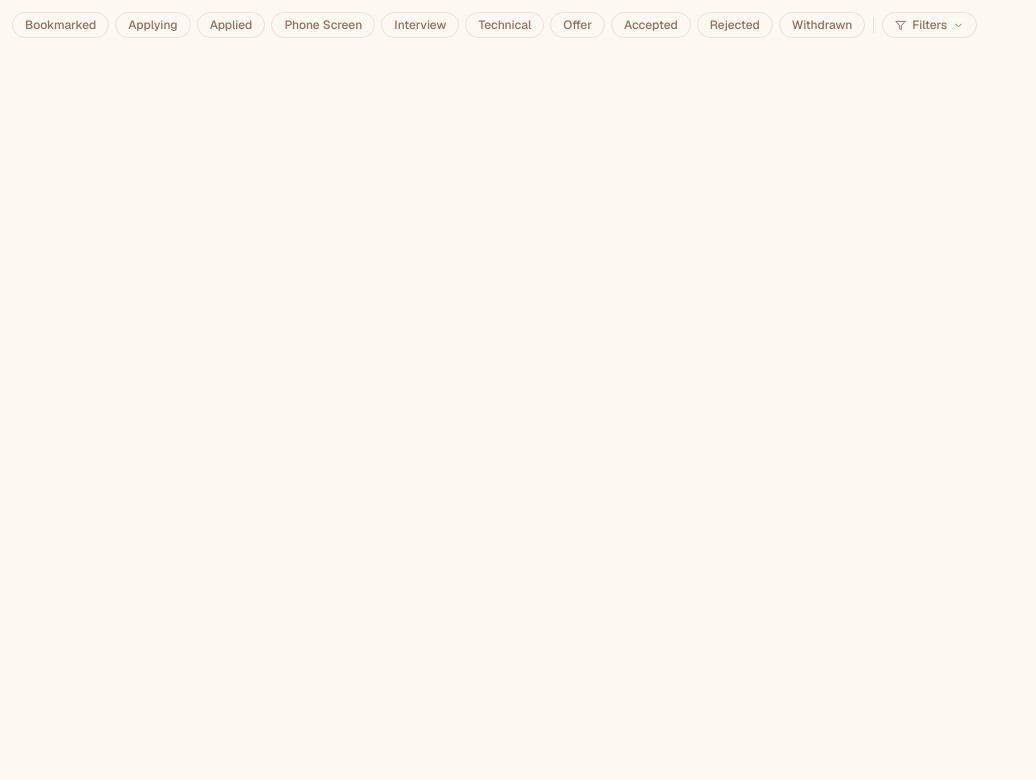
JobsFilters — Filters panel › opens the panel when Filters button is clicked
Click the button "Filters" at (930,25), box [882,12,977,38]
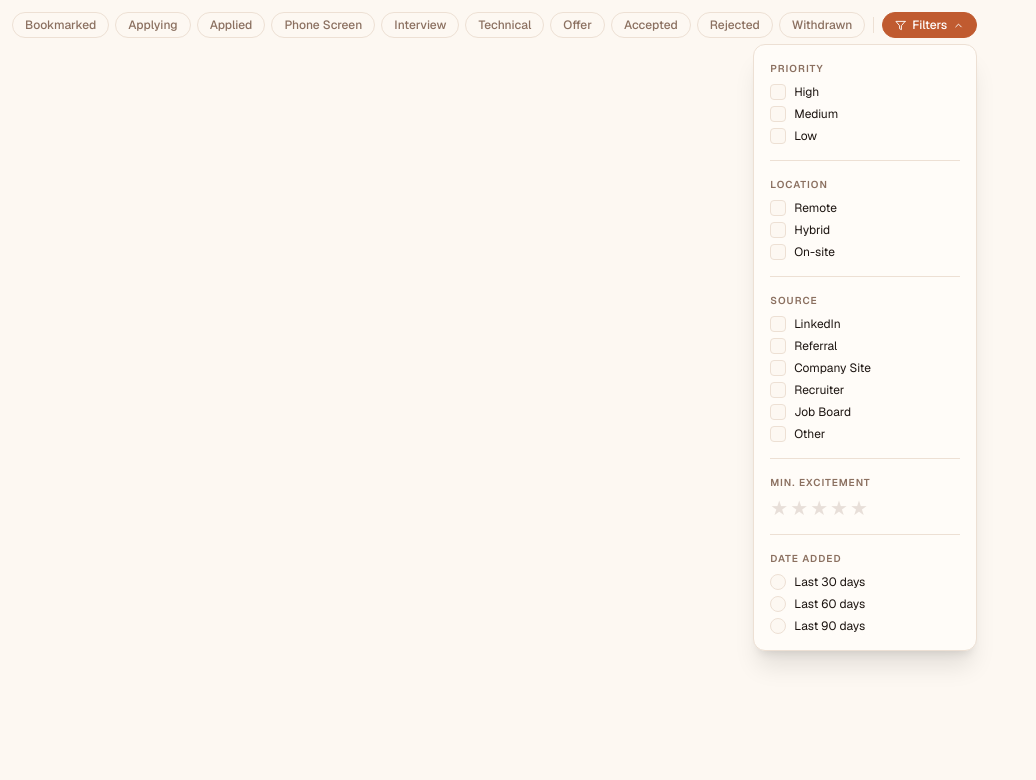
Check: the text "Priority" is shown, box [770,62,824,75]
Check: the text "Location" is shown, box [770,178,828,191]
Check: the text "Source" is shown, box [770,294,818,307]
